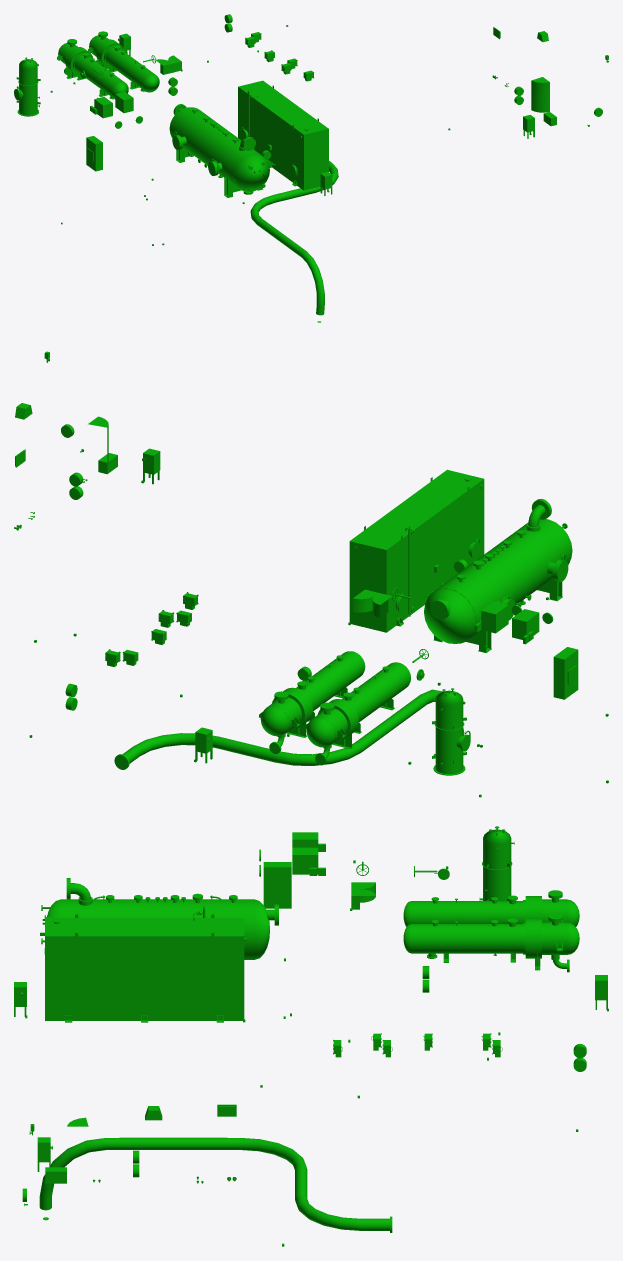
File: HULDRA-HB-MECH.gltf
The picture shows the model from 3 angles, top to bottom: view 1: azimuth 30°, elevation 25°; view 2: azimuth 150°, elevation 25°; view 3: azimuth 270°, elevation 25°; orthographic projection. The views are drawn at different scales.
Parts seen in each view (by area): view 1: BOX_1_of_SUBEQUIPMENT_/42-TB51/PRIM_Mesh.20025, DISH_1_of_SUBEQUIPMENT_/20-VA50/PRIM_Mesh.19818, CYLINDER_3_of_SUBEQUIPMENT_/20-VA50/PRIM_Mesh.19815, CYLINDER_2_of_SUBEQUIPMENT_/20-VA50/PRIM_Mesh.19814, CYLINDER_4_of_SUBEQUIPMENT_/20-VA50/PRIM_Mesh.19816, ELBOW_1_of_BRANCH_/SI-2809/B3_Mesh.20238, RTORUS_1_of_SUBEQUIPMENT_/82-XA50A/PRIM_Mesh.20197, CYLINDER_1_of_SUBEQUIPMENT_/42-VL55/PRIM_Mesh.20130, BOX_1_of_SUBEQUIPMENT_/CLEANING-GEAR-LOCKER-M/D-PRIM_Mesh.20, ELBOW_1_of_BRANCH_/SI-2809/B2_Mesh.20232; view 2: BOX_1_of_SUBEQUIPMENT_/42-TB51/PRIM_Mesh.20025, CYLINDER_3_of_SUBEQUIPMENT_/20-VA50/PRIM_Mesh.19815, DISH_2_of_SUBEQUIPMENT_/20-VA50/PRIM_Mesh.19819, CYLINDER_4_of_SUBEQUIPMENT_/20-VA50/PRIM_Mesh.19816, CYLINDER_2_of_SUBEQUIPMENT_/20-VA50/PRIM_Mesh.19814, CYLINDER_1_of_SUBEQUIPMENT_/42-VL55/PRIM_Mesh.20130, ELBOW_1_of_BRANCH_/SI-2809/B2_Mesh.20232, BOX_1_of_SUBEQUIPMENT_/CLEANING-GEAR-LOCKER-M/D-PRIM_Mesh.20, ELBOW_1_of_BRANCH_/SI-2809/B1_Mesh.20227, Cylinder.003_Mesh.20233, BOX_1_of_SUBEQUIPMENT_/27-XJ50/PRIM-STREAM1_Mesh.19969, CYLINDER_1_of_SUBEQUIPMENT_/24-HA50A/PRIM_Mesh.19886 (+6 smaller); view 3: BOX_1_of_SUBEQUIPMENT_/42-TB51/PRIM_Mesh.20025, BOX_2_of_SUBEQUIPMENT_/42-TB51/PRIM_Mesh.20026, CYLINDER_2_of_SUBEQUIPMENT_/20-VA50/PRIM_Mesh.19814, CYLINDER_1_of_SUBEQUIPMENT_/42-VL55/PRIM_Mesh.20130, Cylinder.003_Mesh.20233, BOX_1_of_SUBEQUIPMENT_/CLEANING-GEAR-LOCKER-M/D-PRIM_Mesh.20, ELBOW_1_of_BRANCH_/SI-2809/B3_Mesh.20238, CYLINDER_1_of_SUBEQUIPMENT_/24-HA50B/PRIM_Mesh.19928, ELBOW_1_of_BRANCH_/SI-2809/B1_Mesh.20227, CYLINDER_3_of_SUBEQUIPMENT_/20-VA50/PRIM_Mesh.19815, CYLINDER_3_of_SUBEQUIPMENT_/24-HA50B/PRIM_Mesh.19930, CYLINDER_4_of_SUBEQUIPMENT_/20-VA50/PRIM_Mesh.19816 (+8 smaller).
Boxes of the visible parts, x1,y1,x2,y2 form: BOX_1_of_SUBEQUIPMENT_/42-TB51/PRIM_Mesh.20025: (238,80,328,186); DISH_1_of_SUBEQUIPMENT_/20-VA50/PRIM_Mesh.19818: (234,154,269,191); CYLINDER_3_of_SUBEQUIPMENT_/20-VA50/PRIM_Mesh.19815: (192,123,240,164); CYLINDER_2_of_SUBEQUIPMENT_/20-VA50/PRIM_Mesh.19814: (171,107,219,156); CYLINDER_4_of_SUBEQUIPMENT_/20-VA50/PRIM_Mesh.19816: (213,139,261,187); ELBOW_1_of_BRANCH_/SI-2809/B3_Mesh.20238: (296,247,324,315); RTORUS_1_of_SUBEQUIPMENT_/82-XA50A/PRIM_Mesh.20197: (531,77,549,112); CYLINDER_1_of_SUBEQUIPMENT_/42-VL55/PRIM_Mesh.20130: (19,65,37,102); BOX_1_of_SUBEQUIPMENT_/CLEANING-GEAR-LOCKER-M/D-PRIM_Mesh.20: (86,136,102,171); ELBOW_1_of_BRANCH_/SI-2809/B2_Mesh.20232: (250,193,283,227); BOX_1_of_SUBEQUIPMENT_/42-TB51/PRIM_Mesh.20025: (349,469,484,626); CYLINDER_3_of_SUBEQUIPMENT_/20-VA50/PRIM_Mesh.19815: (467,542,539,604); DISH_2_of_SUBEQUIPMENT_/20-VA50/PRIM_Mesh.19819: (424,588,476,643); CYLINDER_4_of_SUBEQUIPMENT_/20-VA50/PRIM_Mesh.19816: (498,519,570,592); CYLINDER_2_of_SUBEQUIPMENT_/20-VA50/PRIM_Mesh.19814: (435,565,508,638); CYLINDER_1_of_SUBEQUIPMENT_/42-VL55/PRIM_Mesh.20130: (435,699,463,754); ELBOW_1_of_BRANCH_/SI-2809/B2_Mesh.20232: (263,737,369,765); BOX_1_of_SUBEQUIPMENT_/CLEANING-GEAR-LOCKER-M/D-PRIM_Mesh.20: (553,647,578,699); ELBOW_1_of_BRANCH_/SI-2809/B1_Mesh.20227: (128,733,228,759); Cylinder.003_Mesh.20233: (362,698,422,747); BOX_1_of_SUBEQUIPMENT_/27-XJ50/PRIM-STREAM1_Mesh.19969: (481,601,508,633); CYLINDER_1_of_SUBEQUIPMENT_/24-HA50A/PRIM_Mesh.19886: (371,662,410,700); BOX_1_of_SUBEQUIPMENT_/42-TB51/PRIM_Mesh.20025: (45,918,244,1014); BOX_2_of_SUBEQUIPMENT_/42-TB51/PRIM_Mesh.20026: (45,1013,244,1020); CYLINDER_2_of_SUBEQUIPMENT_/20-VA50/PRIM_Mesh.19814: (189,899,252,959); CYLINDER_1_of_SUBEQUIPMENT_/42-VL55/PRIM_Mesh.20130: (483,839,511,895); Cylinder.003_Mesh.20233: (119,1137,227,1149); BOX_1_of_SUBEQUIPMENT_/CLEANING-GEAR-LOCKER-M/D-PRIM_Mesh.20: (263,862,291,908); ELBOW_1_of_BRANCH_/SI-2809/B3_Mesh.20238: (39,1138,119,1210); CYLINDER_1_of_SUBEQUIPMENT_/24-HA50B/PRIM_Mesh.19928: (411,924,451,953); ELBOW_1_of_BRANCH_/SI-2809/B1_Mesh.20227: (295,1188,374,1230); CYLINDER_3_of_SUBEQUIPMENT_/20-VA50/PRIM_Mesh.19815: (125,899,188,917); CYLINDER_3_of_SUBEQUIPMENT_/24-HA50B/PRIM_Mesh.19930: (483,924,522,953); CYLINDER_4_of_SUBEQUIPMENT_/20-VA50/PRIM_Mesh.19816: (62,899,125,917).
Size of the model in its own units: 37.45 by 15.82 by 27.52.
